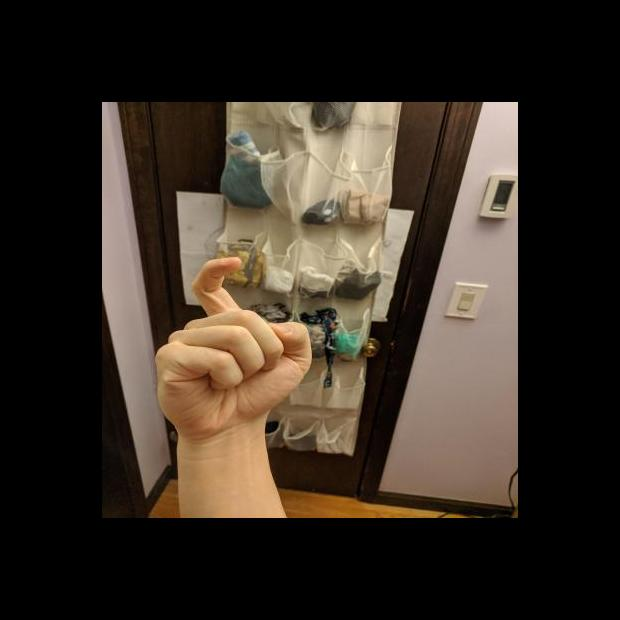W: (152, 254, 317, 438)
